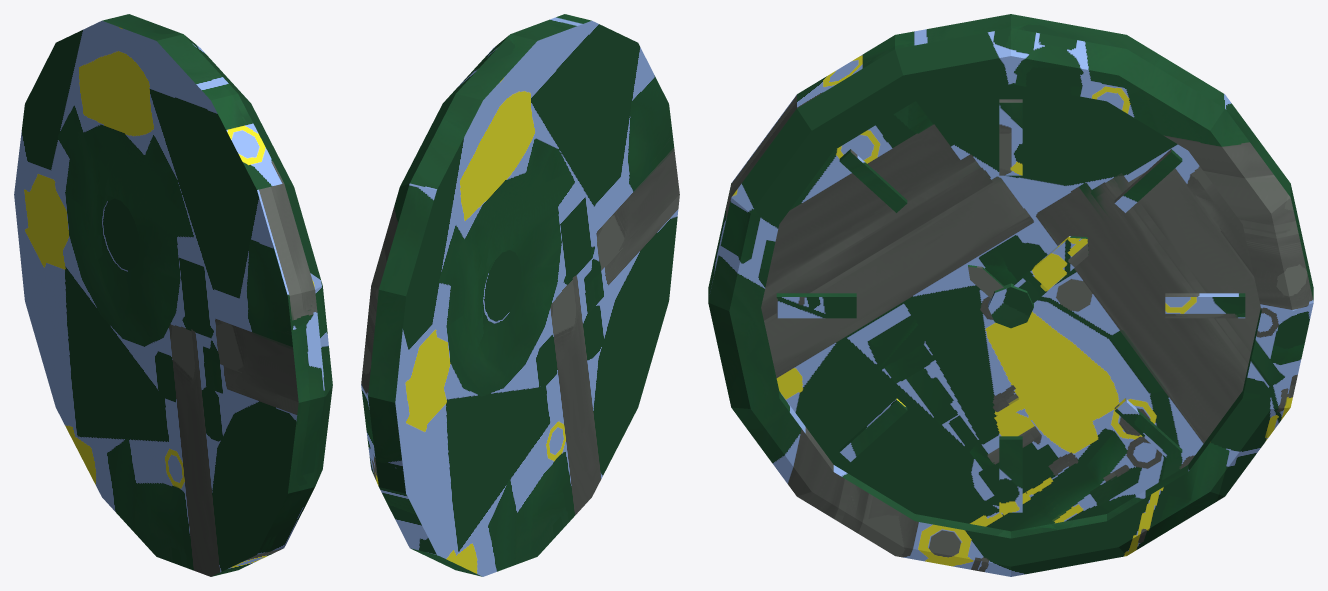
Rendered from cloacknotexture.fbx.
3 views of the same model, side by side, from view 1: azimuth 30°, elevation 25°; view 2: azimuth 150°, elevation 25°; view 3: azimuth 270°, elevation 25° (orthographic). The views are drawn at different scales.
Parts seen in each view (by area): view 1: Cylinder; view 2: Cylinder; view 3: Cylinder.
Boxes of the visible parts, box(x1,y1,x2,y2) form: Cylinder: box(14, 14, 332, 576); Cylinder: box(361, 14, 679, 576); Cylinder: box(708, 14, 1313, 576).
Size of the model in its own units: 17.9 by 200 by 200.
